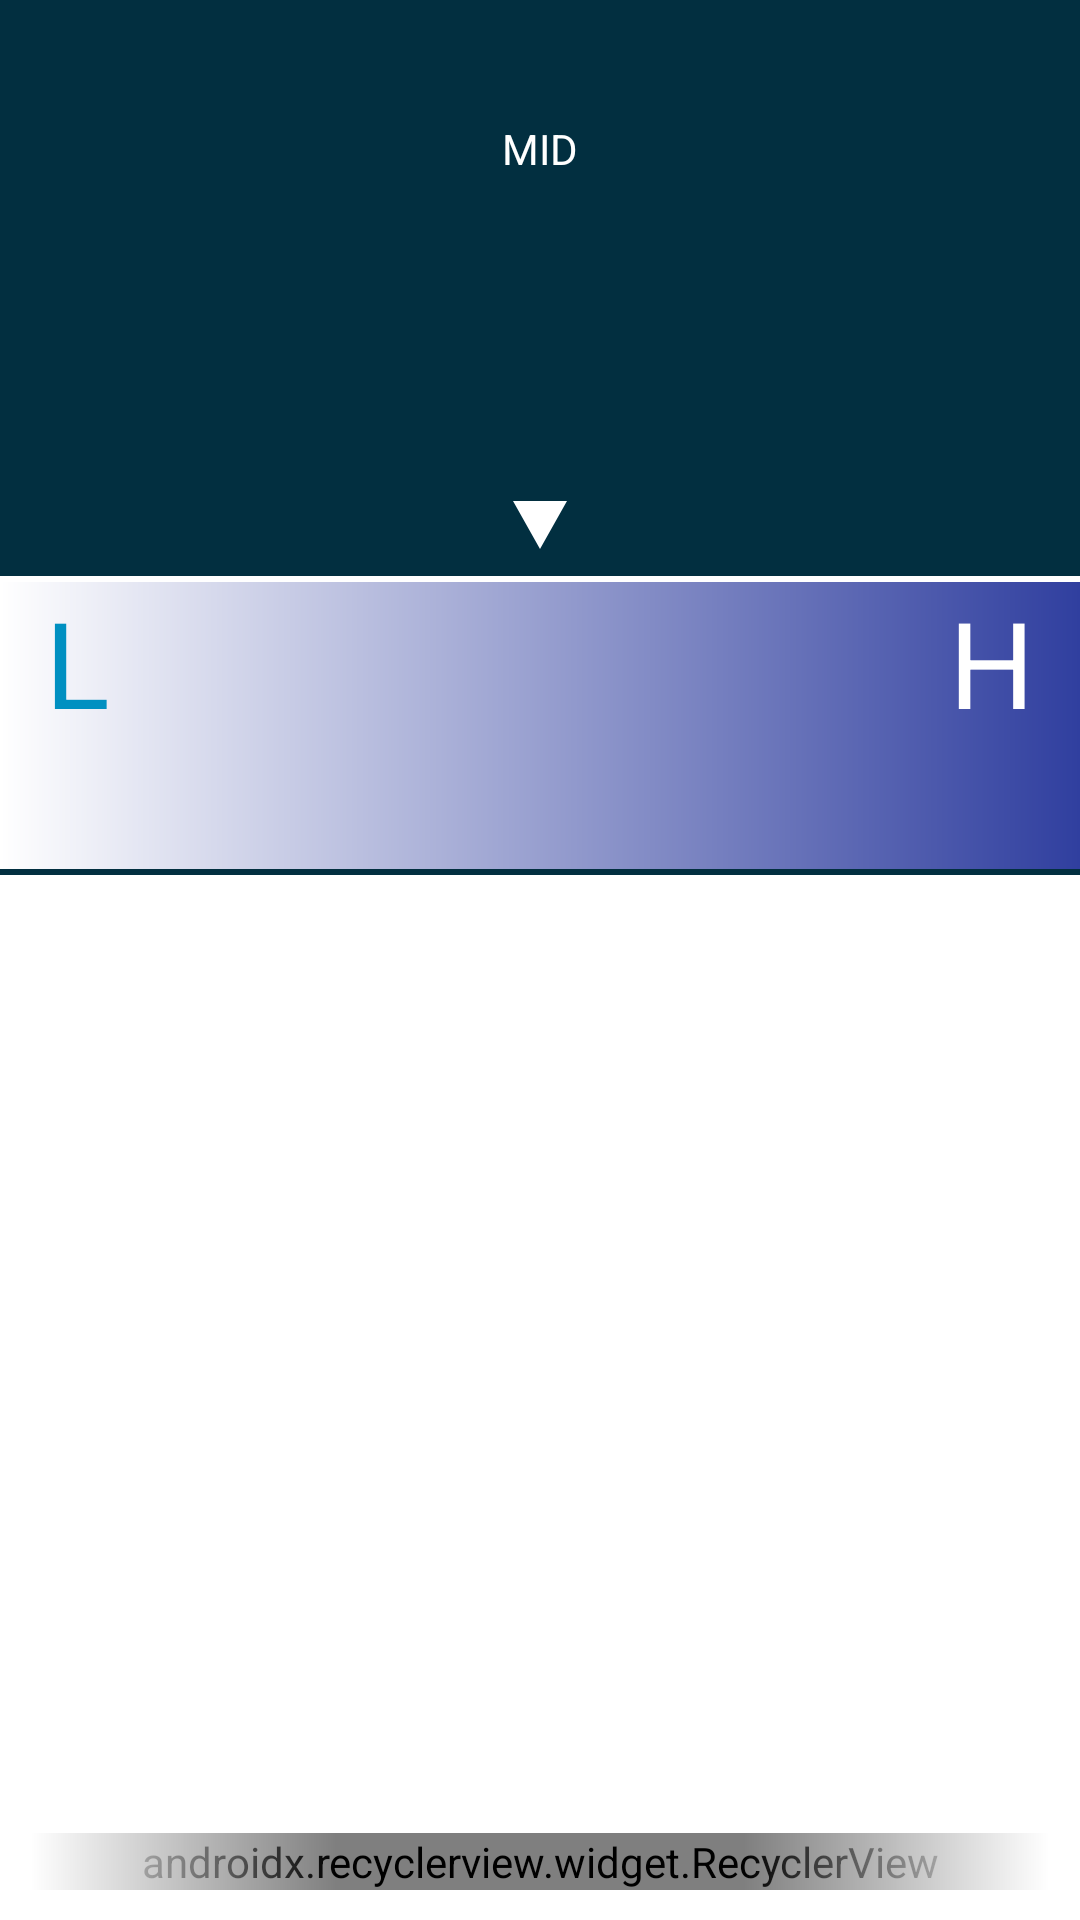

Screen size 1080px x 1920px. Icon name, then its center in pixels as (x=x, y=y):
down arrow: (x=540, y=525)
